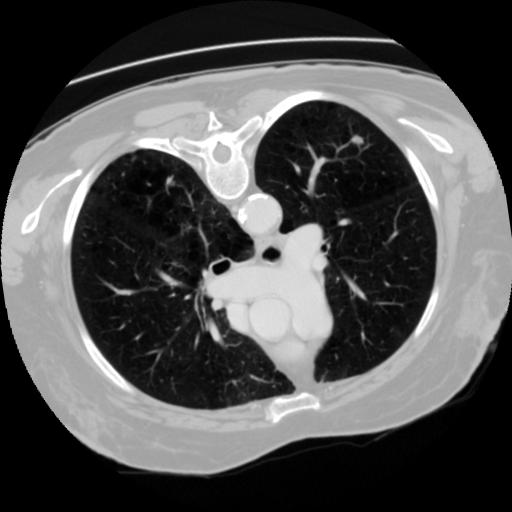nodule: (348, 134, 365, 151)
